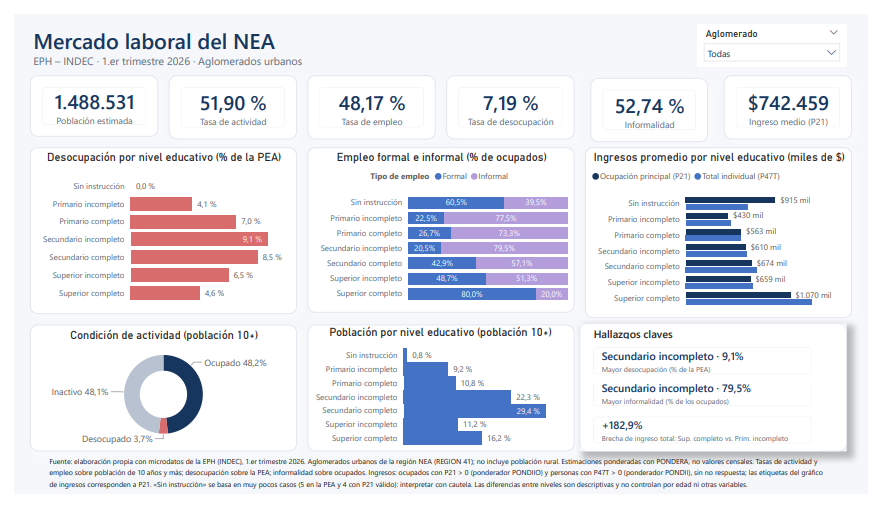

The dashboard page shown, as its layout file describes it:
{"tool":"powerbi","page":{"name":"Mercado laboral NEA","canvas":[1280,720],"ordinal":0},"visuals":[{"type":"textbox","box":[24,12,700,80],"z":0},{"type":"cardVisual","title":"Población estimada","fields":{"Data":["_Medidas.Población estimada (texto)"]},"box":[24,92,192,92],"z":1000},{"type":"cardVisual","title":"Población estimada","fields":{"Data":["_Medidas.Tasa de actividad"]},"box":[232,92,192,96],"z":2000},{"type":"cardVisual","title":"Población estimada","fields":{"Data":["_Medidas.Tasa de empleo"]},"box":[440,92,192,96],"z":3000},{"type":"cardVisual","title":"Población estimada","fields":{"Data":["_Medidas.Tasa de desocupación"]},"box":[648,92,192,96],"z":4000},{"type":"cardVisual","title":"Población estimada","fields":{"Data":["_Medidas.Tasa de informalidad"]},"box":[864,96,176,96],"z":5000},{"type":"cardVisual","title":"Población estimada","fields":{"Data":["_Medidas.Ingreso promedio P21 (texto)"]},"box":[1064,92,192,96],"z":6000},{"type":"clusteredBarChart","title":"Desocupación por nivel educativo (% de la PEA)","fields":{"Category":["Dim_NivelEd.Nivel educativo"],"Y":["_Medidas.Tasa de desocupación"]},"box":[24,200,400,250],"z":7000},{"type":"hundredPercentStackedBarChart","title":"Empleo formal e informal (% de ocupados)","fields":{"Category":["Dim_NivelEd.Nivel educativo"],"Y":["_Medidas.% de ocupados"],"Series":["Dim_Empleo.Tipo de empleo"]},"box":[440,200,400,248],"z":8000},{"type":"clusteredBarChart","title":"Ingresos promedio por nivel educativo (miles de $)","fields":{"Category":["Dim_NivelEd.Nivel educativo"],"Y":["_Medidas.Ingreso promedio P21","_Medidas.Ingreso promedio P47T"]},"box":[856,200,400,256],"z":9000},{"type":"donutChart","title":"Condición de actividad (población 10+)","fields":{"Category":["Dim_Estado.Condición de actividad"],"Y":["_Medidas.% condición de actividad"]},"box":[24,466,400,190],"z":10000},{"type":"clusteredBarChart","title":"Población por nivel educativo (población 10+)","fields":{"Category":["Dim_NivelEd.Nivel educativo"],"Y":["_Medidas.% población 10+ por nivel educativo"]},"box":[440,466,400,190],"z":11000},{"type":"cardVisual","fields":{"Data":["_Medidas.Hallazgo desocupación corto"]},"box":[880,480,368,64],"z":12000},{"type":"shape","box":[848,464,400,192],"z":13000},{"type":"cardVisual","fields":{"Data":["_Medidas.Hallazgo informalidad corto"]},"box":[856,536,352,64],"z":14000},{"type":"cardVisual","fields":{"Data":["_Medidas.Hallazgo brecha corto"]},"box":[856,592,352,64],"z":15000},{"type":"textbox","box":[864,464,368,32],"z":16000},{"type":"cardVisual","fields":{"Data":["_Medidas.Hallazgo desocupación corto"]},"box":[856,488,352,64],"z":17000},{"type":"textbox","box":[48,656,1184,64],"z":18000},{"type":"slicer","fields":{"Values":["Dim_Aglomerado.Nombre aglomerado"]},"box":[1024,16,224,64],"z":19000}]}

Visuals, with their boxes in screenshot pixels (x1, y1, x2, y2), scaled from the page's 1280x720 canvas onto the 882x506 screenshot:
textbox: rect(17, 8, 499, 65)
"Población estimada" cardVisual: rect(17, 65, 149, 129)
"Población estimada" cardVisual: rect(160, 65, 292, 132)
"Población estimada" cardVisual: rect(303, 65, 435, 132)
"Población estimada" cardVisual: rect(447, 65, 579, 132)
"Población estimada" cardVisual: rect(595, 67, 717, 135)
"Población estimada" cardVisual: rect(733, 65, 865, 132)
"Desocupación por nivel educativo (% de la PEA)" clusteredBarChart: rect(17, 141, 292, 316)
"Empleo formal e informal (% de ocupados)" hundredPercentStackedBarChart: rect(303, 141, 579, 315)
"Ingresos promedio por nivel educativo (miles de $)" clusteredBarChart: rect(590, 141, 865, 320)
"Condición de actividad (población 10+)" donutChart: rect(17, 327, 292, 461)
"Población por nivel educativo (población 10+)" clusteredBarChart: rect(303, 327, 579, 461)
cardVisual - _Medidas.Hallazgo desocupación corto: rect(606, 337, 860, 382)
shape: rect(584, 326, 860, 461)
cardVisual - _Medidas.Hallazgo informalidad corto: rect(590, 377, 832, 422)
cardVisual - _Medidas.Hallazgo brecha corto: rect(590, 416, 832, 461)
textbox: rect(595, 326, 849, 349)
cardVisual - _Medidas.Hallazgo desocupación corto: rect(590, 343, 832, 388)
textbox: rect(33, 461, 849, 505)
slicer - Dim_Aglomerado.Nombre aglomerado: rect(706, 11, 860, 56)
